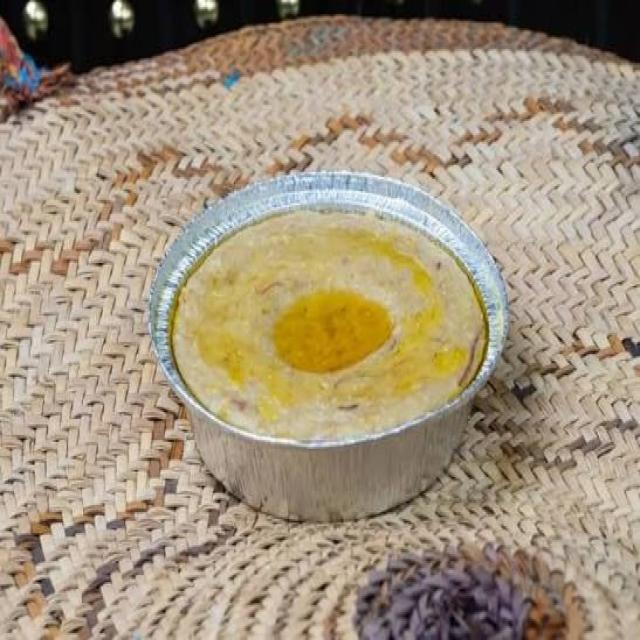Harees: (172, 202, 491, 442)
